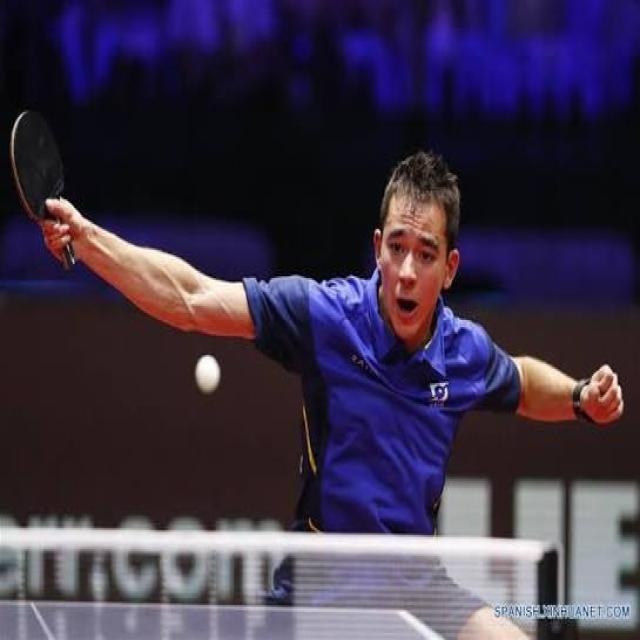TT Net: (0, 525, 563, 638)
TT Racket: (1, 91, 72, 241)
TT Table: (0, 599, 445, 638)
